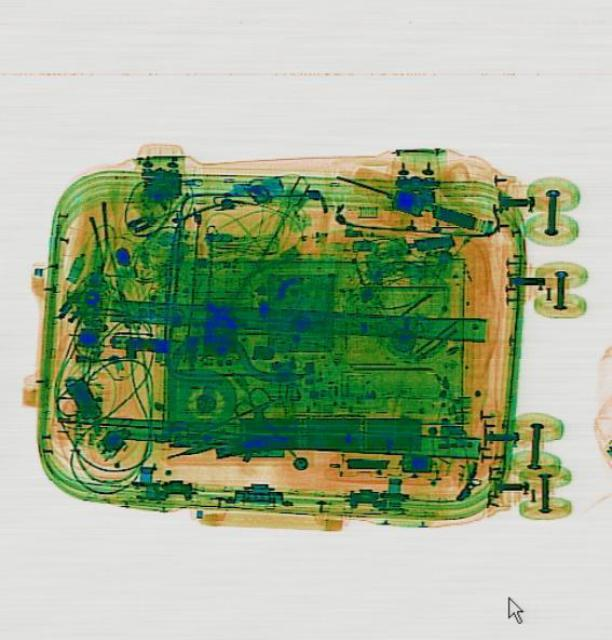Scissors: (227, 382, 311, 466)
